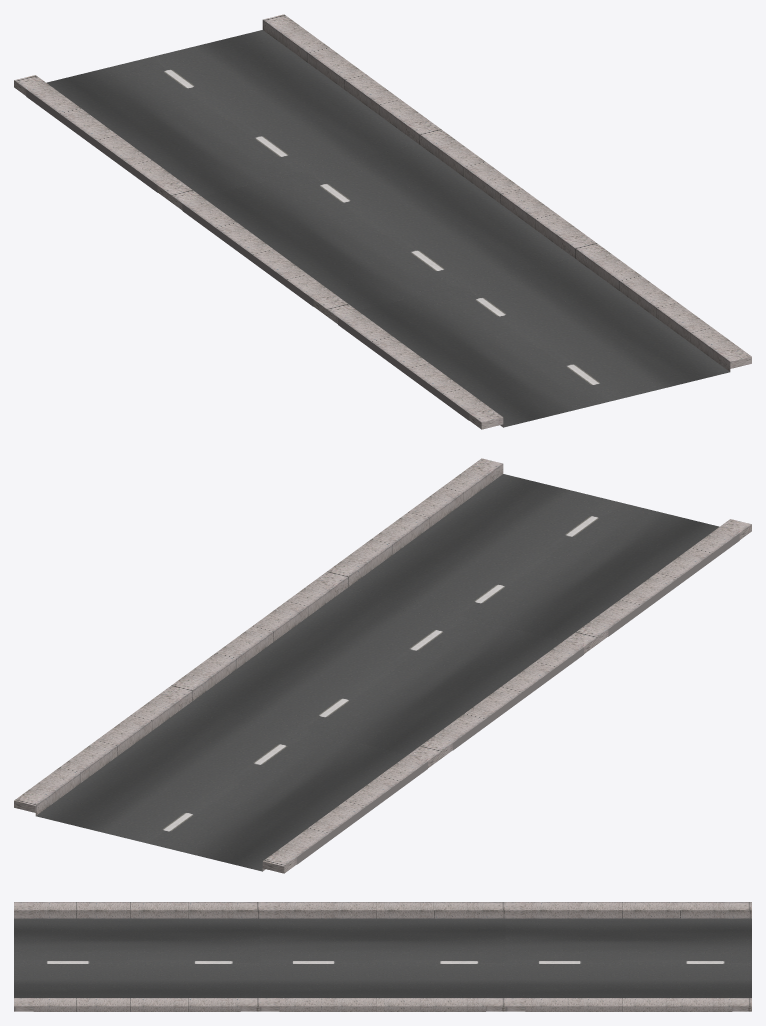
Rendered from road segment BBB.FBX.
3 views of the same model, one above another, from view 1: azimuth 30°, elevation 25°; view 2: azimuth 150°, elevation 25°; view 3: azimuth 270°, elevation 25° (orthographic). The views are drawn at different scales.
Visible parts, largest first — view 1: Box003; view 2: Box003; view 3: Box003.
Part boxes in pixels (x1=…): Box003: x1=14, y1=14, x2=751, y2=429; Box003: x1=14, y1=458, x2=751, y2=873; Box003: x1=14, y1=902, x2=751, y2=1011.
Size of the model in its own units: 24 by 0.8736 by 71.93.
